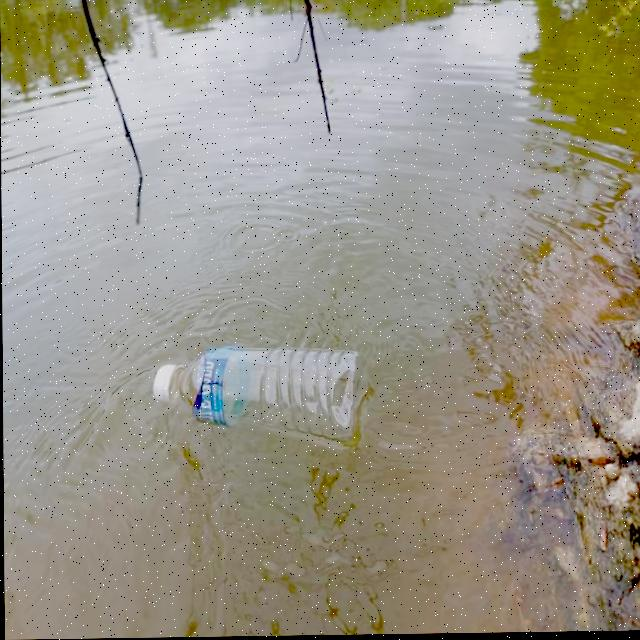waterbottle: (147, 348, 374, 458)
